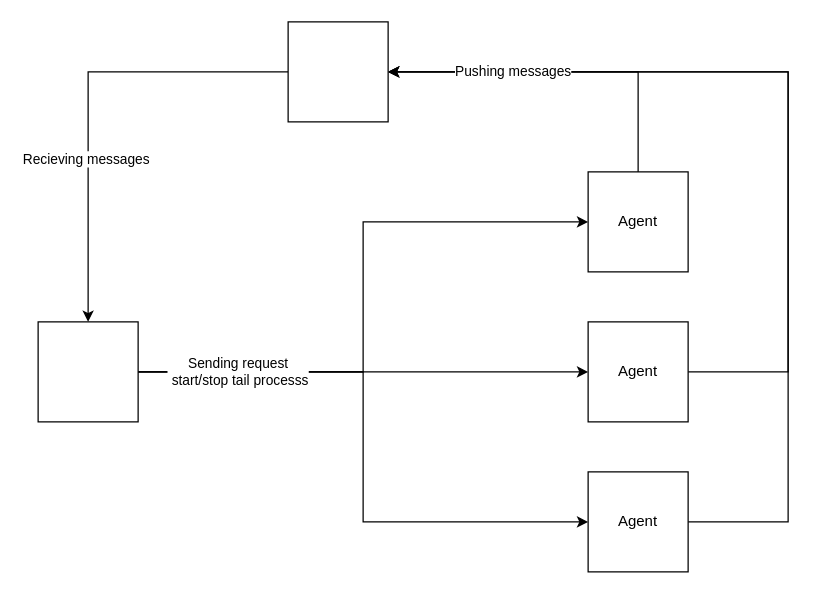
Some shapes in this 820 by 594 pixel diagram are drawn without their labels. Here are the shapes that lost their labels. From the top down, the centre of each, then its label:
At (337,71): "Kafka".
At (87,371): "Tail CLI".
